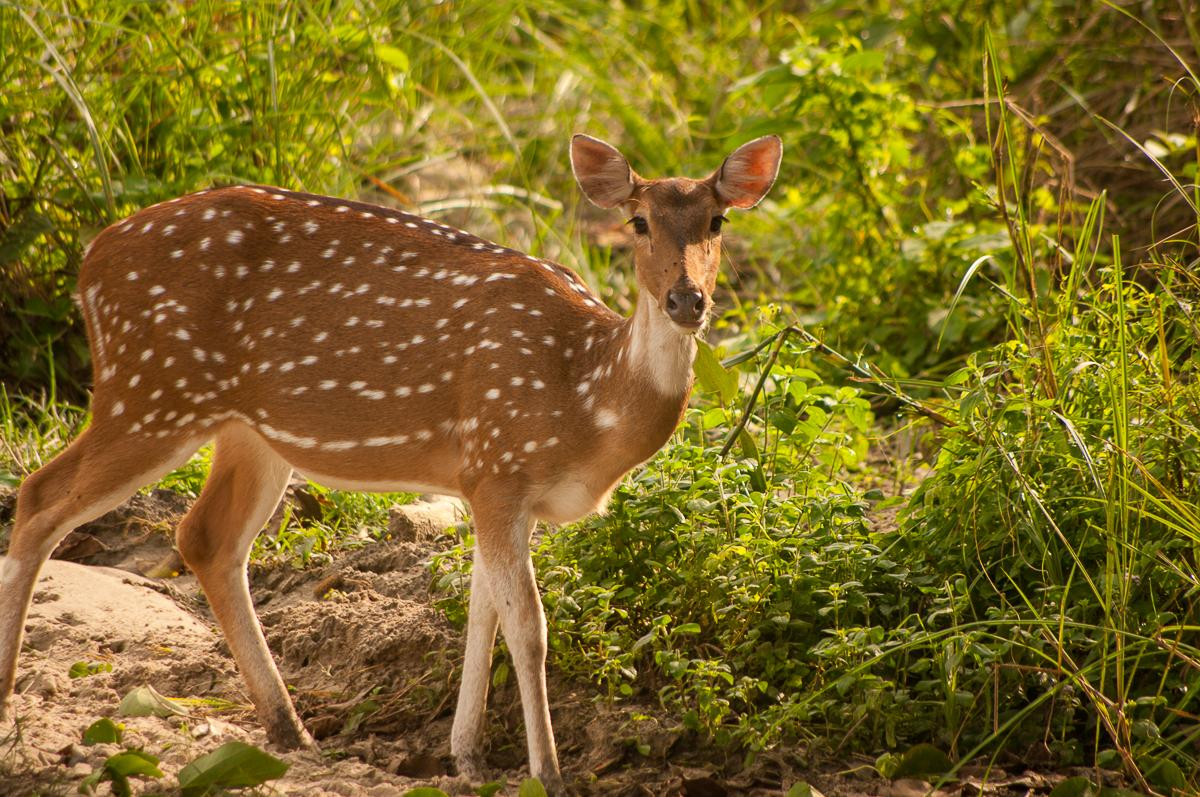Deer: (0, 135, 781, 793)
